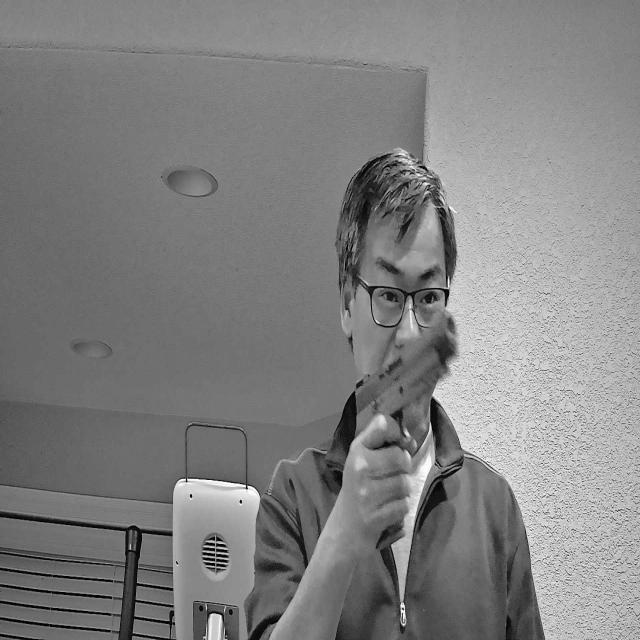Hand-Gun: (307, 208, 489, 535)
